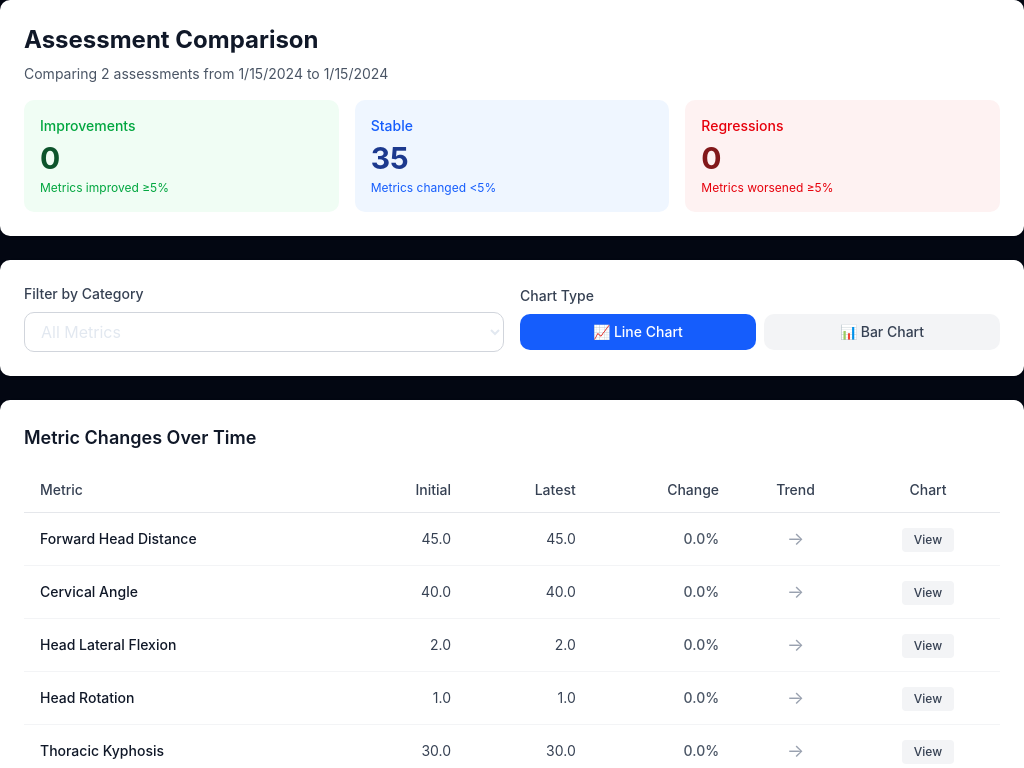
Test: AssessmentComparison › Category Filtering › should filter metrics by category
Note: Change to Global Posture category
Select "Global Posture" in the dropdown labelled "Filter by Category" at x=264, y=332, box [24, 312, 504, 352]
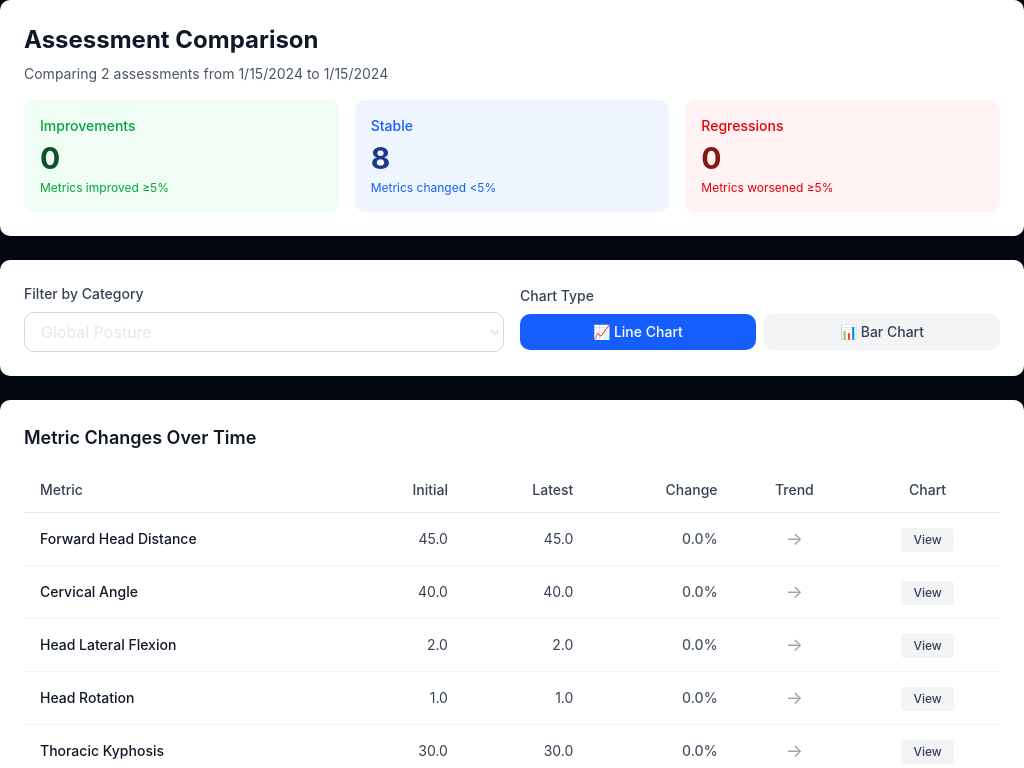
Expected: the text "Forward Head Distance" is shown, [24, 512, 348, 566]
Expected: the text "Cervical Angle" is shown, [24, 566, 348, 618]
Note: Change to Shoulder & Arm category
Select "Shoulder & Arm" in the dropdown labelled "Filter by Category" at x=264, y=332, box [24, 312, 504, 352]
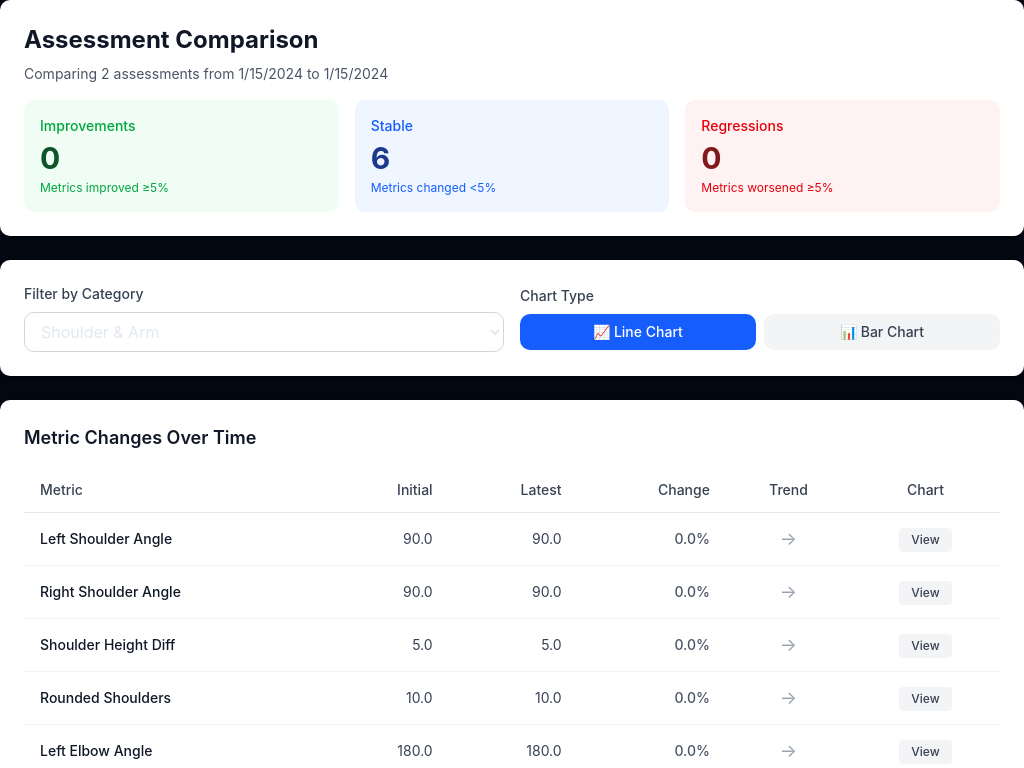
Now the text "Left Shoulder Angle" is shown, box [24, 512, 329, 566]
Now the text "Shoulder Height Diff" is shown, box [24, 618, 329, 672]
